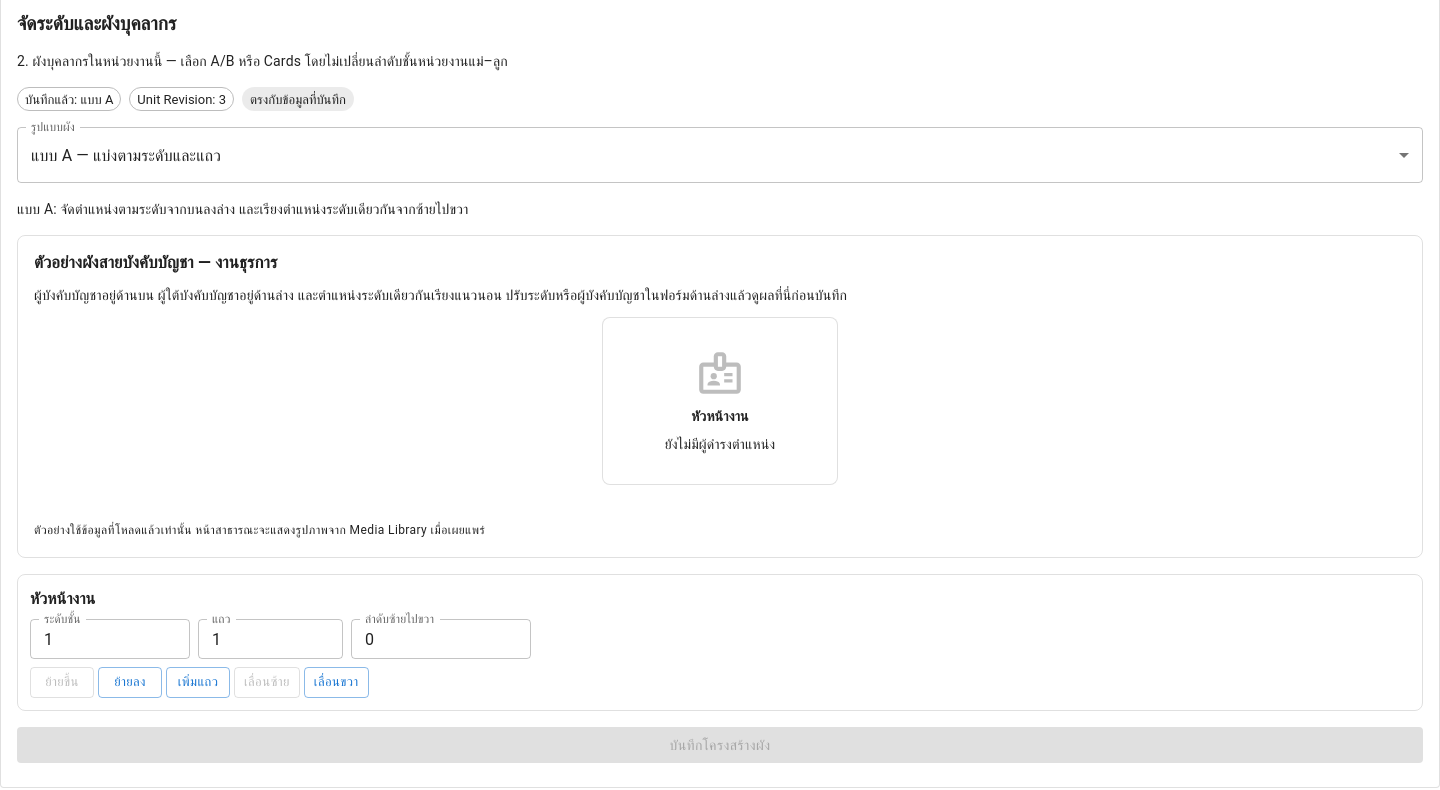
Test: Organization Chart layout audited save feedback › distinguishes a saved A/B layout from pending edits and identifies the unit Revision
The width and height of the screenshot is (1440, 790).
Check: the text "บันทึกแล้ว: แบบ A" is shown, box left=18, top=90, right=120, bottom=109
Check: the text "Unit Revision: 3" is shown, box left=130, top=90, right=233, bottom=109
Replace the text in the number field labelled "ระดับชั้น" with "2": (110, 639) left=30, top=619, right=190, bottom=659
(page scrolled)
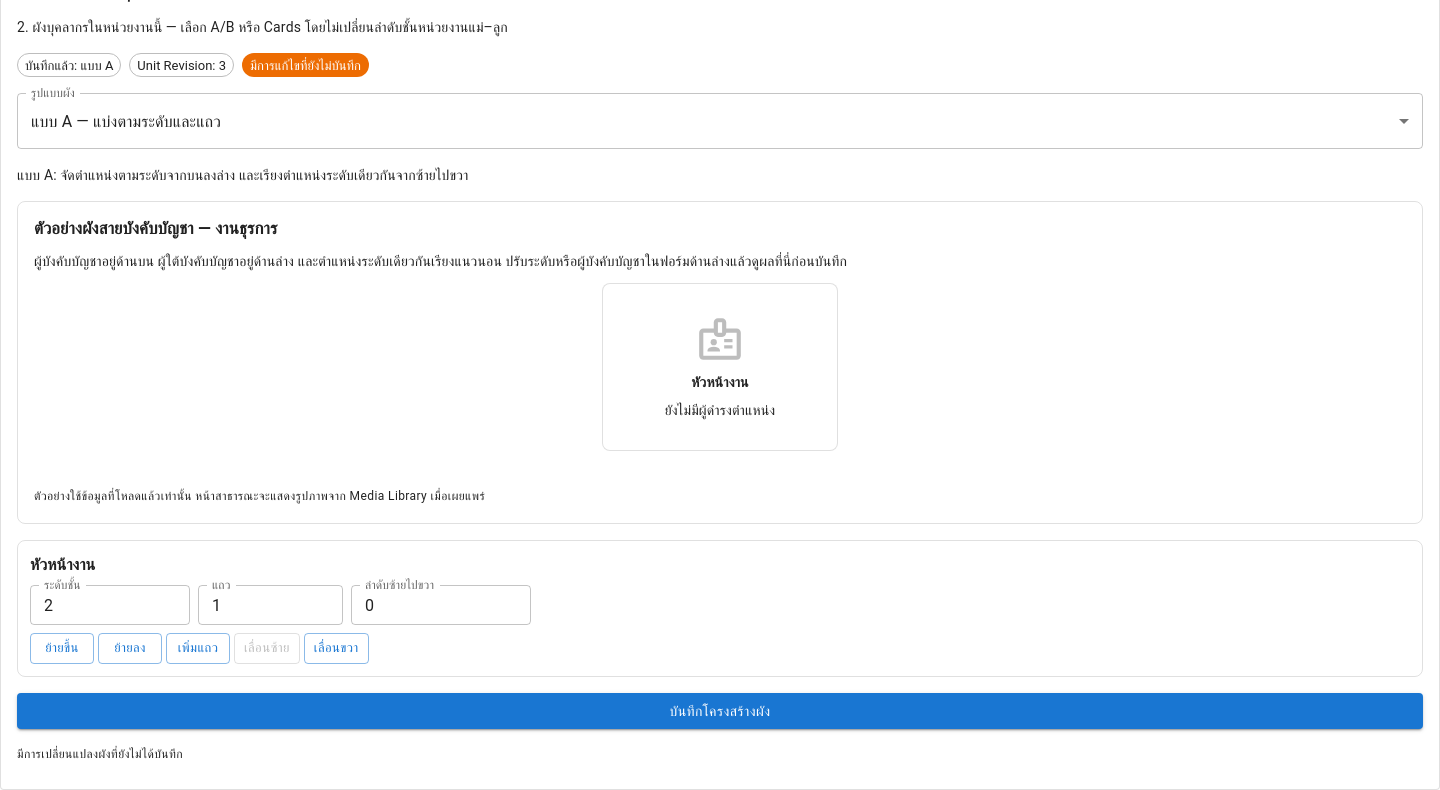
Check: the text "มีการแก้ไขที่ยังไม่บันทึก" is shown, box left=242, top=56, right=369, bottom=75
Check: the text "มีการเปลี่ยนแปลงผังที่ยังไม่ได้บันทึก" is shown, box left=17, top=747, right=183, bottom=761
